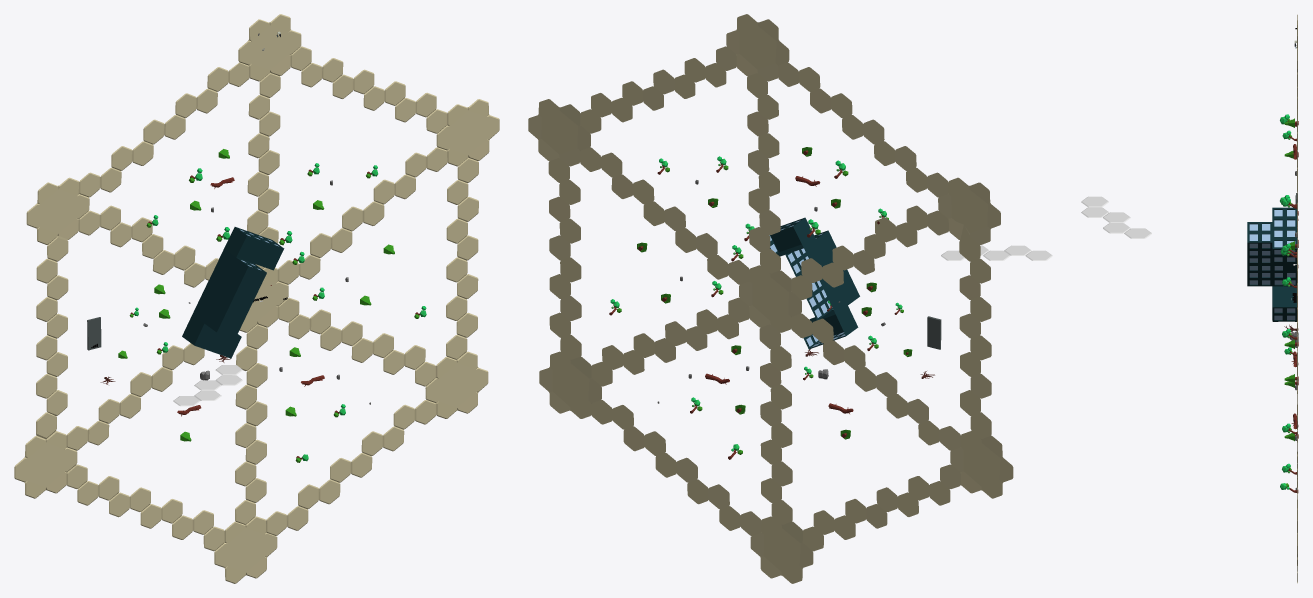
3 renders of one model, left to right at view 1: azimuth 30°, elevation 25°; view 2: azimuth 150°, elevation 25°; view 3: azimuth 270°, elevation 25°, orthographic. The views are drawn at different scales.
Visible parts, largest first — view 1: пол.003, Plane.059, запасная деталь1; view 2: пол.003, Plane.059, запасная деталь1; view 3: Plane.059, запасная деталь1, пол.003.
Boxes of the visible parts, x1,y1,x2,y2 form: пол.003: [14, 14, 499, 583]; Plane.059: [182, 227, 284, 358]; запасная деталь1: [173, 365, 242, 406]; пол.003: [528, 14, 1013, 583]; Plane.059: [769, 217, 859, 349]; запасная деталь1: [941, 245, 1052, 260]; Plane.059: [1247, 207, 1297, 321]; запасная деталь1: [1081, 196, 1151, 238]; пол.003: [1297, 14, 1297, 583].
Size of what is drawn, in the model's own units: 228 by 251 by 86.66.
25 materials, 2 textured.
